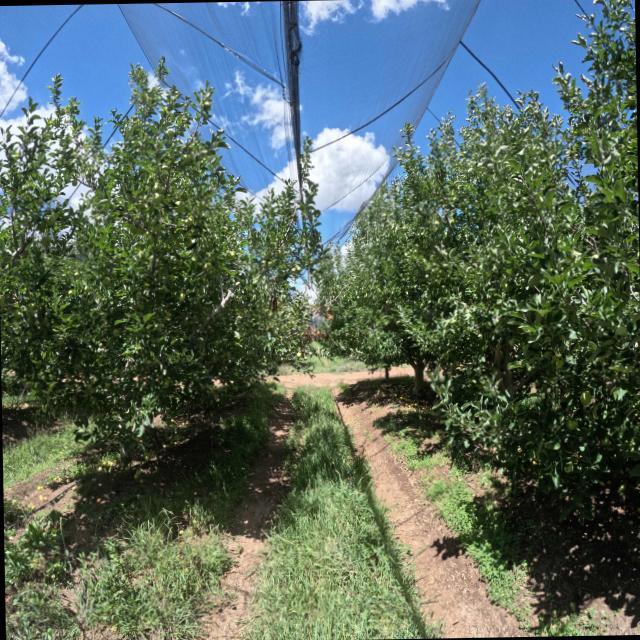-FireBlight-: (302, 322, 329, 342), (268, 295, 280, 311), (308, 306, 320, 320), (325, 312, 334, 323)
